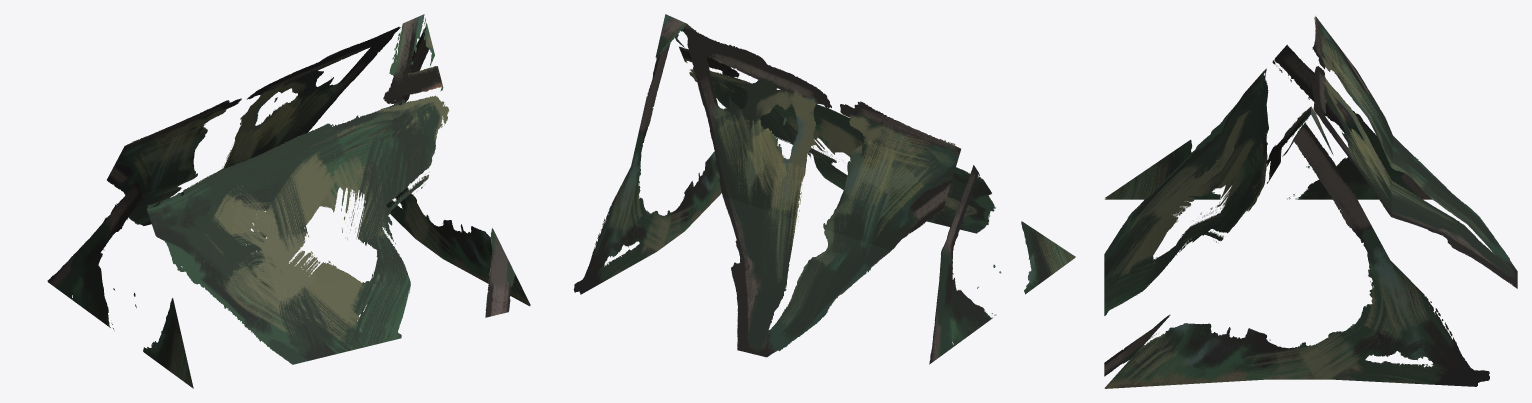
Rendered from Tent01.fbx.
The picture shows the model from 3 angles, left to right: view 1: azimuth 30°, elevation 25°; view 2: azimuth 150°, elevation 25°; view 3: azimuth 270°, elevation 25°; orthographic projection. The views are drawn at different scales.
Visible parts, largest first — view 1: Tent_broken01; view 2: Tent_broken01; view 3: Tent_broken01.
Boxes of the visible parts, x1,y1,x2,y2 form: Tent_broken01: [47, 14, 530, 388]; Tent_broken01: [573, 14, 1075, 364]; Tent_broken01: [1104, 16, 1517, 388].
Bounding box in the file's own units: 1.87 × 1.22 × 1.72.
1 material, 1 textured.
